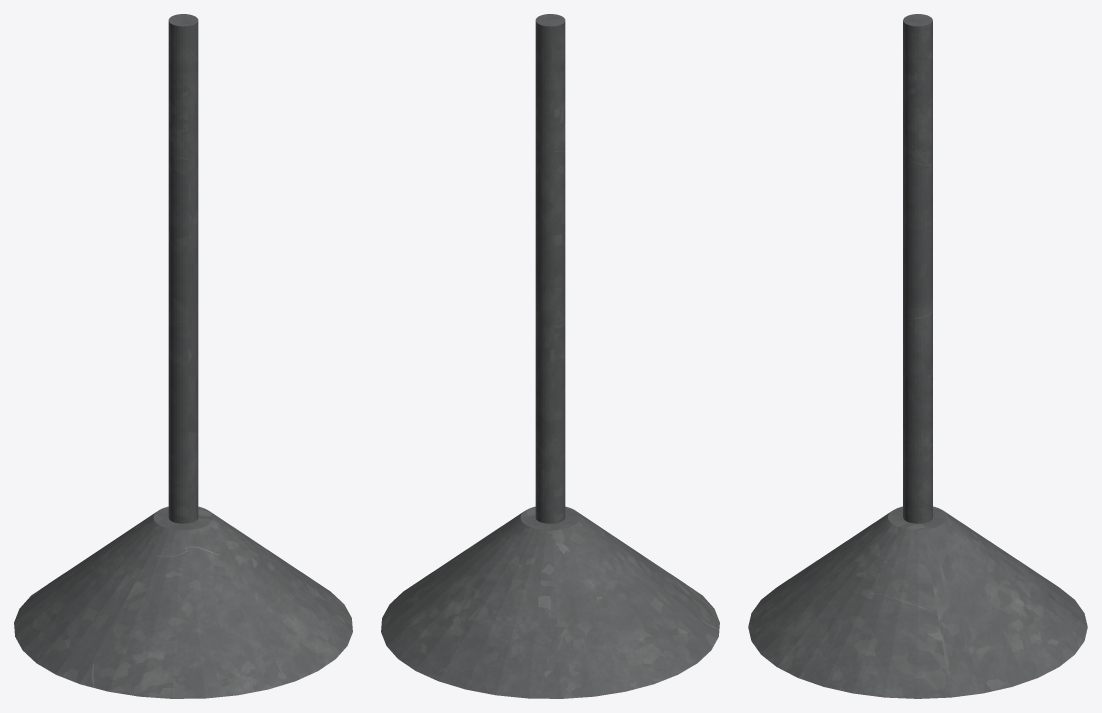
File: lamba.fbx
The picture shows the model from 3 angles, left to right: view 1: azimuth 30°, elevation 25°; view 2: azimuth 150°, elevation 25°; view 3: azimuth 270°, elevation 25°; orthographic projection.
Visible parts, largest first — view 1: Cylinder; view 2: Cylinder; view 3: Cylinder.
Boxes of the visible parts, bbox=[...] form: Cylinder: bbox=[14, 14, 352, 698]; Cylinder: bbox=[381, 14, 719, 698]; Cylinder: bbox=[748, 14, 1087, 698].
Bounding box in the file's own units: 200 × 394 × 200.
